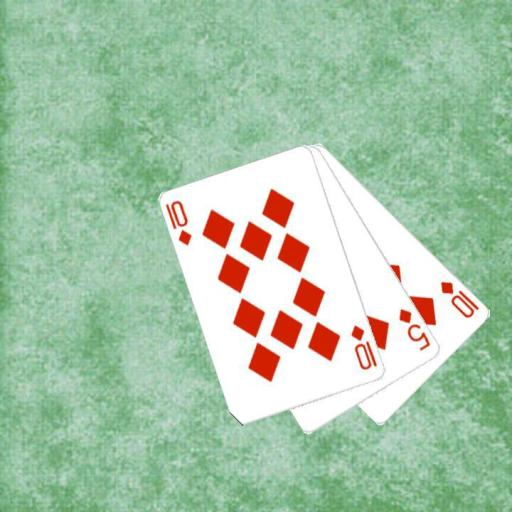10D: (438, 278, 482, 319), (348, 322, 379, 372), (163, 197, 193, 247)
5D: (396, 305, 432, 353)
